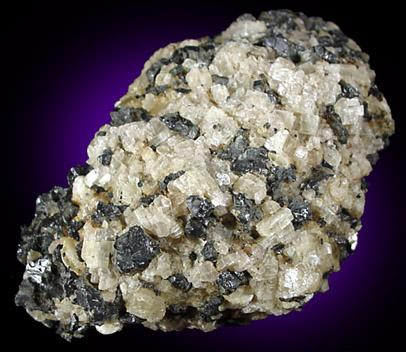magnetite: (15, 260, 121, 322), (216, 128, 296, 190), (17, 188, 77, 264), (257, 31, 359, 63), (147, 43, 215, 76), (115, 229, 160, 274), (159, 114, 201, 140), (286, 197, 314, 230), (325, 107, 350, 140), (110, 108, 152, 126), (90, 203, 126, 223), (216, 274, 250, 295), (300, 171, 331, 190), (191, 197, 214, 222), (159, 171, 185, 192), (235, 196, 254, 223), (332, 235, 352, 260), (254, 82, 278, 102), (67, 166, 91, 186), (199, 298, 219, 320), (172, 274, 192, 292), (185, 227, 206, 238), (342, 83, 357, 98), (204, 248, 216, 262)
